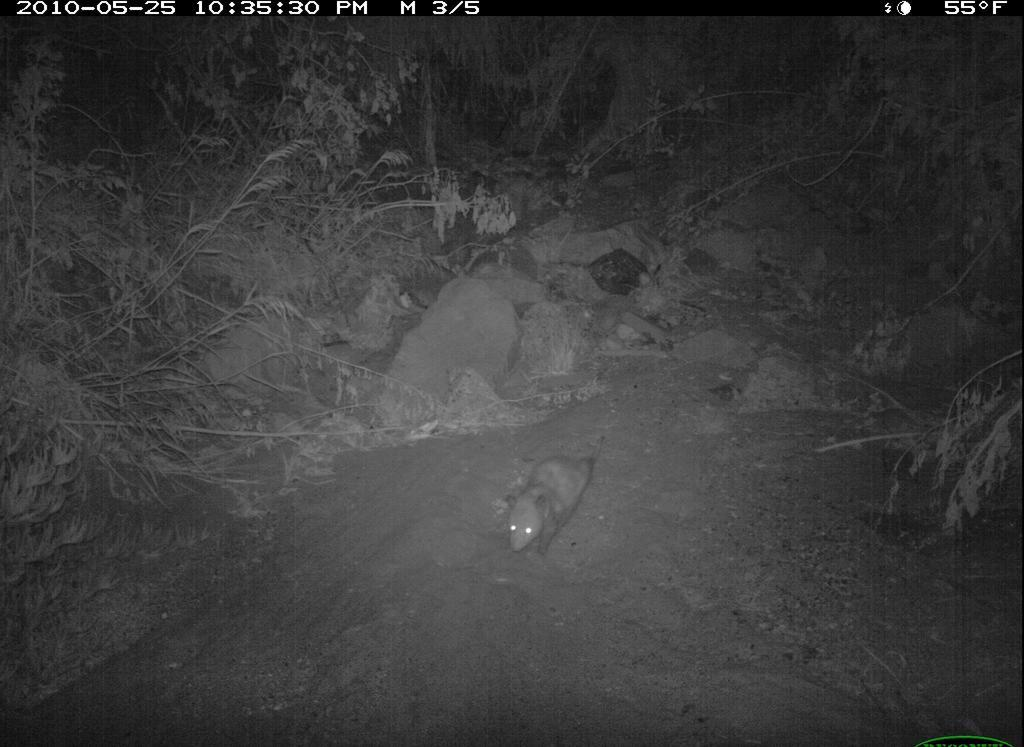opossum: (495, 423, 621, 580)
